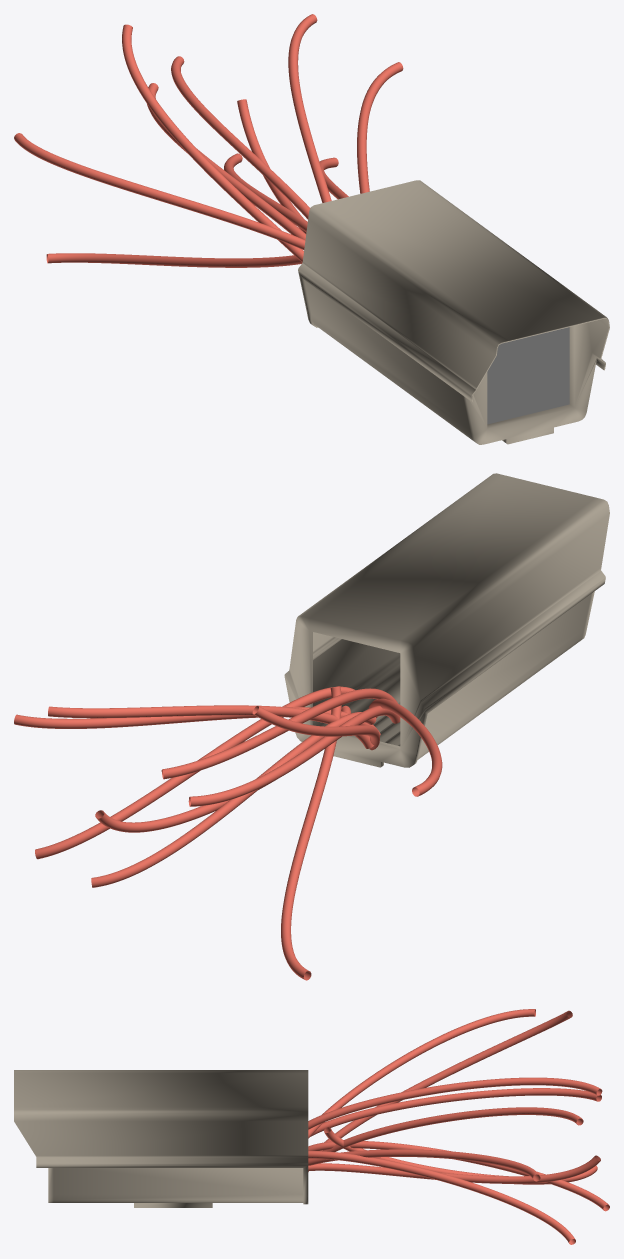
The model's file is newsecuritycamera.gltf.
3 renders of one model, top to bottom at view 1: azimuth 30°, elevation 25°; view 2: azimuth 150°, elevation 25°; view 3: azimuth 270°, elevation 25°, orthographic. The views are drawn at different scales.
Parts seen in each view (by area): view 1: Object_3, Object_2, BézierCurve.001, BézierCurve.002, BézierCurve.003, BézierCurve.004, BézierCurve.007, BézierCurve.010, BézierCurve.006, BézierCurve.008, BézierCurve.005; view 2: Object_3, BézierCurve.009, BézierCurve.007, BézierCurve.003, BézierCurve.005, BézierCurve.004, BézierCurve.006, BézierCurve.010, BézierCurve.002, BézierCurve.008, BézierCurve.001; view 3: Object_3, BézierCurve.004, BézierCurve.009, BézierCurve.006, BézierCurve.007, BézierCurve.008, BézierCurve.001, BézierCurve.002, BézierCurve.010, BézierCurve.005, BézierCurve.003.
Boxes of the visible parts, x1=… form: Object_3: x1=298, y1=180, x2=609, y2=444; Object_2: x1=487, y1=327, x2=569, y2=424; BézierCurve.001: x1=14, y1=133, x2=305, y2=249; BézierCurve.002: x1=122, y1=24, x2=303, y2=262; BézierCurve.003: x1=46, y1=253, x2=301, y2=267; BézierCurve.004: x1=171, y1=56, x2=310, y2=219; BézierCurve.007: x1=288, y1=14, x2=331, y2=202; BézierCurve.010: x1=357, y1=62, x2=403, y2=193; BézierCurve.006: x1=147, y1=83, x2=306, y2=239; BézierCurve.008: x1=237, y1=99, x2=306, y2=233; BézierCurve.005: x1=224, y1=153, x2=307, y2=232; Object_3: x1=284, y1=473, x2=609, y2=767; BézierCurve.009: x1=35, y1=686, x2=355, y2=859; BézierCurve.007: x1=48, y1=705, x2=373, y2=748; BézierCurve.003: x1=281, y1=686, x2=341, y2=980; BézierCurve.005: x1=91, y1=712, x2=376, y2=887; BézierCurve.004: x1=161, y1=688, x2=397, y2=779; BézierCurve.006: x1=188, y1=705, x2=400, y2=806; BézierCurve.010: x1=14, y1=706, x2=380, y2=735; BézierCurve.002: x1=252, y1=705, x2=379, y2=750; BézierCurve.008: x1=95, y1=705, x2=351, y2=832; BézierCurve.001: x1=368, y1=698, x2=442, y2=796; Object_3: x1=14, y1=1070, x2=308, y2=1207; BézierCurve.004: x1=308, y1=1077, x2=602, y2=1129; BézierCurve.009: x1=308, y1=1151, x2=575, y2=1244; BézierCurve.006: x1=310, y1=1088, x2=601, y2=1136; BézierCurve.007: x1=322, y1=1107, x2=583, y2=1151; BézierCurve.008: x1=308, y1=1155, x2=600, y2=1183; BézierCurve.001: x1=308, y1=1009, x2=535, y2=1138; BézierCurve.002: x1=308, y1=1010, x2=572, y2=1171; BézierCurve.010: x1=308, y1=1149, x2=540, y2=1181; BézierCurve.005: x1=308, y1=1141, x2=609, y2=1211; BézierCurve.003: x1=324, y1=1127, x2=597, y2=1184.
Size of the model in its own units: 14.91 by 8.63 by 25.2.
